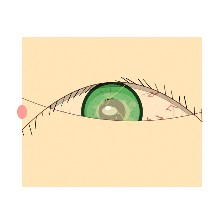corneal_ulcer: (86, 90, 141, 134)
